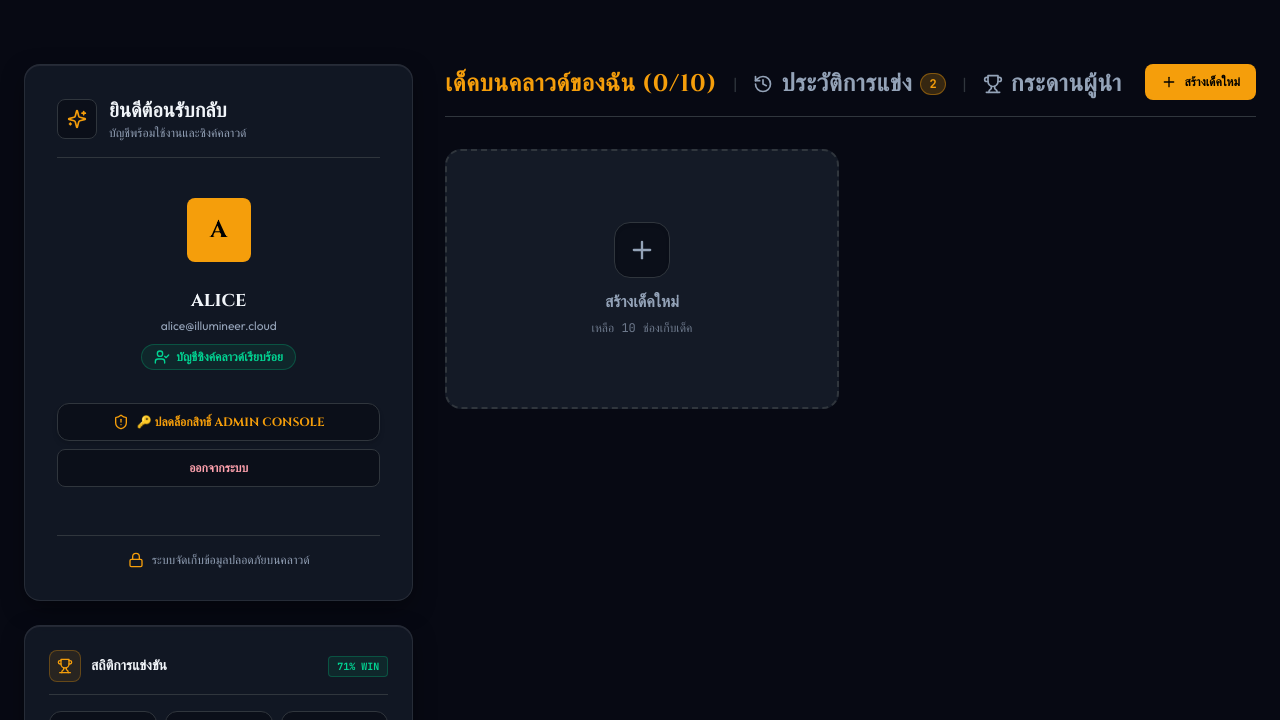
Scenario: UserDashboard Player Stats & Match History QA Suite (T04) › TC-DASH-02: Switching to Match History tab displays recent matches with result and scores
The width and height of the screenshot is (1280, 720).
Click the button with test id "tab-matches".
click(850, 84)  # box [754, 68, 946, 100]
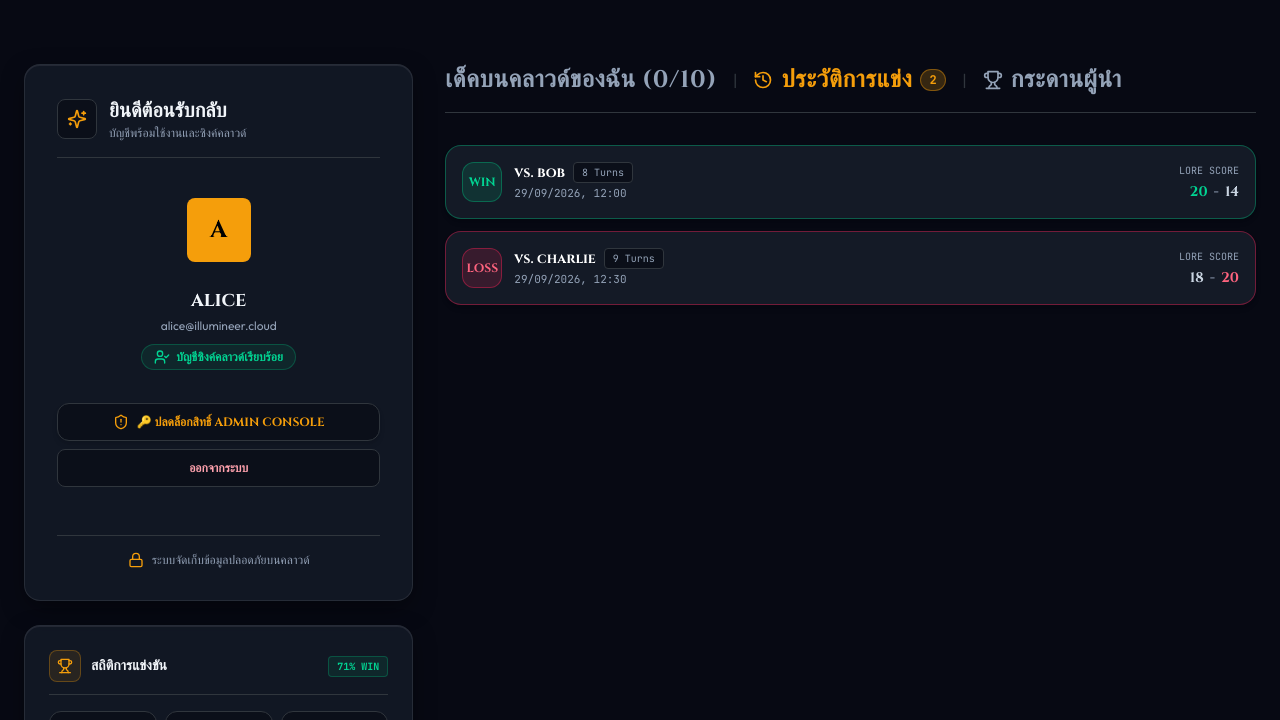
Check: the element with test id "match-history-list" shows "vs. bob", box [445, 145, 1256, 305]
Check: the element with test id "match-history-list" shows "vs. charlie", box [445, 145, 1256, 305]
Check: the element with test id "match-history-list" shows "WIN", box [469, 174, 496, 190]
